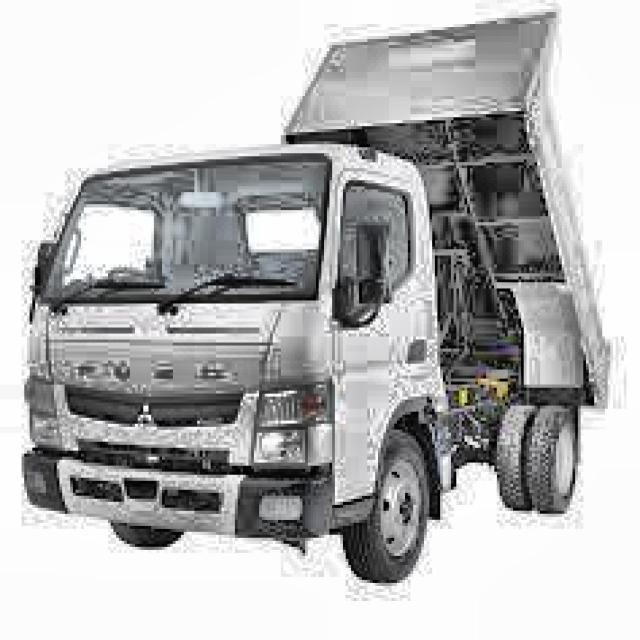dump_truck: (23, 8, 604, 585)
